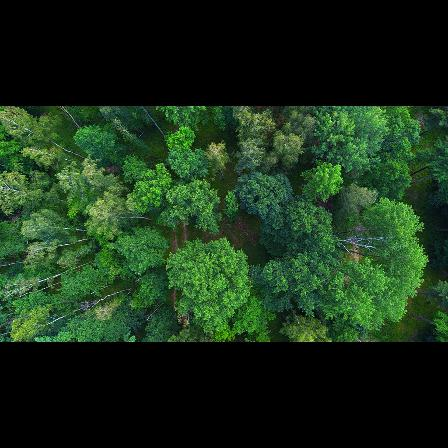Dead: (59, 287, 132, 311), (334, 225, 391, 255)
